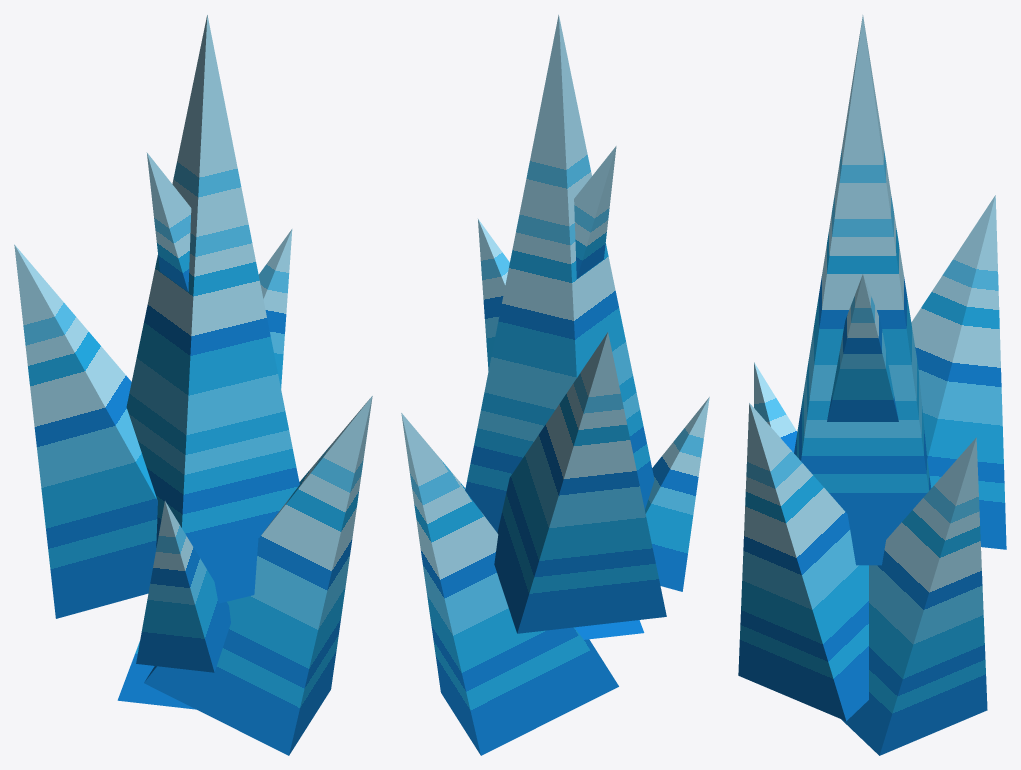
Rendered from Ice_Spikes.fbx.
The picture shows the model from 3 angles, left to right: view 1: azimuth 30°, elevation 25°; view 2: azimuth 150°, elevation 25°; view 3: azimuth 270°, elevation 25°; orthographic projection. The views are drawn at different scales.
Parts seen in each view (by area): view 1: pyramid_1, pyramid_2, pyramid_3, pyramid_4, pyramid_5, pyramid, pyramid_6; view 2: pyramid_1, pyramid_2, pyramid_6, pyramid_4, pyramid_5, pyramid, pyramid_3; view 3: pyramid_1, pyramid_3, pyramid_6, pyramid_2, pyramid, pyramid_4.
Boxes of the visible parts, box(x1,y1,x2,y2) form: pyramid_1: box(126, 15, 299, 603); pyramid_2: box(14, 244, 157, 618); pyramid_3: box(144, 396, 372, 755); pyramid_4: box(136, 501, 230, 672); pyramid_5: box(146, 152, 191, 291); pyramid: box(258, 229, 292, 388); pyramid_6: box(117, 641, 195, 709); pyramid_1: box(465, 14, 654, 532); pyramid_2: box(494, 332, 666, 633); pyramid_6: box(401, 413, 618, 755); pyramid_4: box(645, 397, 709, 591); pyramid_5: box(574, 146, 616, 278); pyramid: box(478, 219, 509, 370); pyramid_3: box(574, 620, 644, 639); pyramid_1: box(794, 15, 931, 565); pyramid_3: box(738, 403, 868, 721); pyramid_6: box(841, 437, 987, 755); pyramid_2: box(911, 195, 1006, 549); pyramid: box(827, 274, 898, 421); pyramid_4: box(754, 362, 797, 452).
Bounding box in the file's own units: 87.8 × 249 × 87.8.
Materials: 1 (1 with a texture image).
